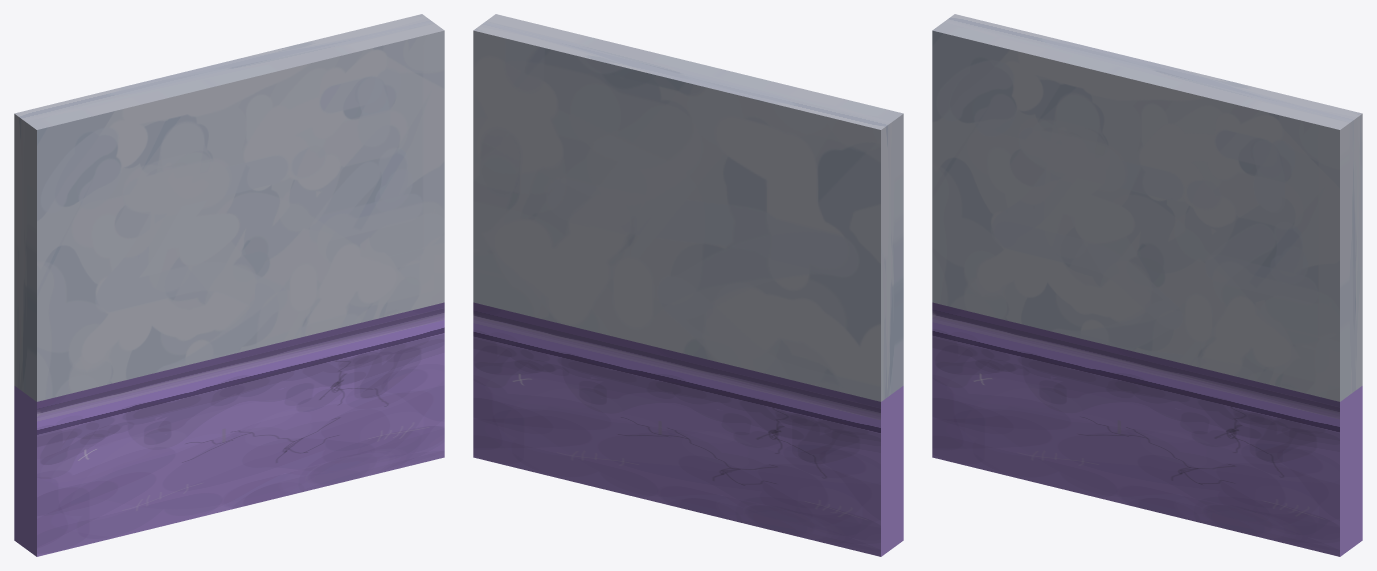
Rendered from pared.fbx.
The picture shows the model from 3 angles, left to right: view 1: azimuth 30°, elevation 25°; view 2: azimuth 150°, elevation 25°; view 3: azimuth 330°, elevation 25°; orthographic projection.
Parts seen in each view (by area): view 1: Cube.006; view 2: Cube.006; view 3: Cube.006.
Part boxes in pixels (x1,y1,x2,y2): Cube.006: (14, 14, 444, 556); Cube.006: (473, 14, 903, 556); Cube.006: (932, 14, 1362, 556).
Size of the model in its own units: 1057 by 1057 by 102.
Materials: 2 (2 with a texture image).
